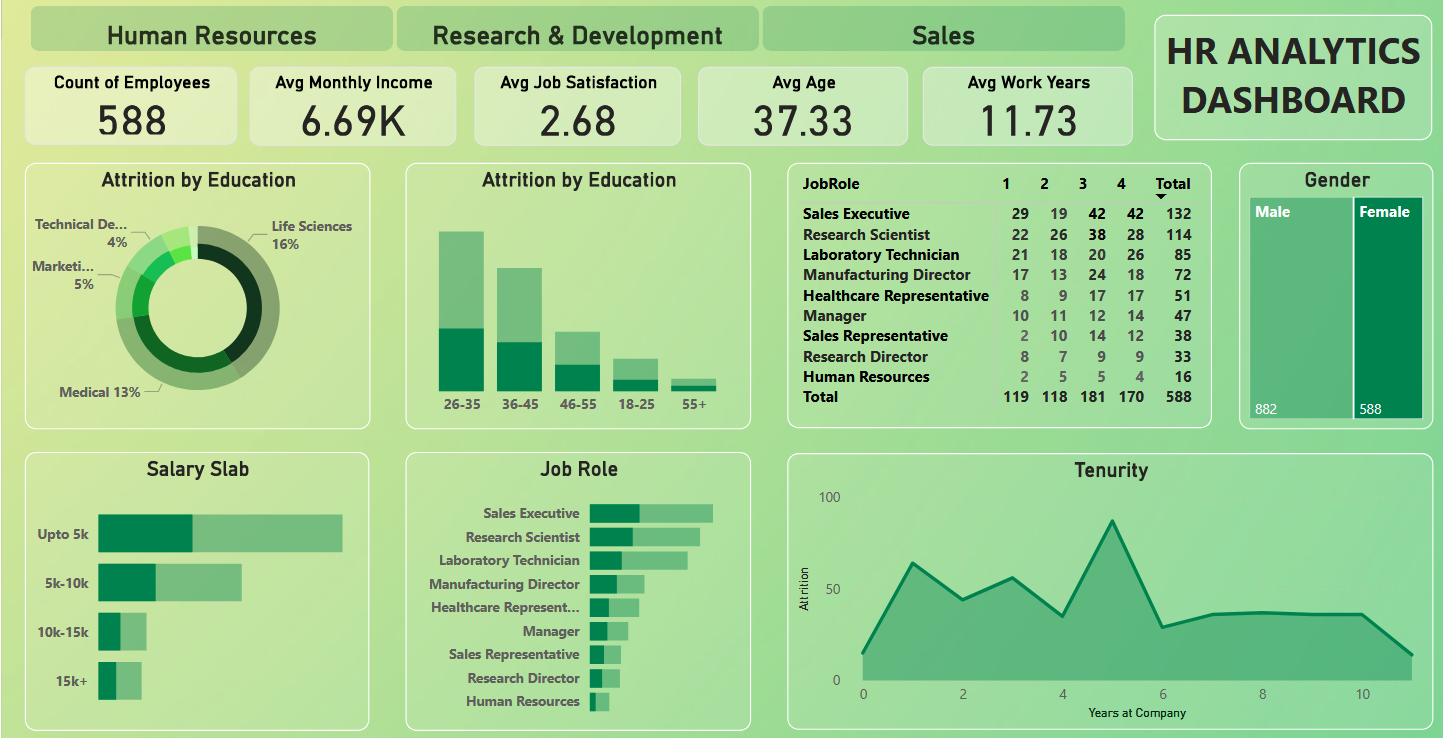

The page's visual inventory and layout, read from the dashboard file:
{"tool":"powerbi","page":{"name":"Page 1","canvas":[1280,720],"ordinal":0},"visuals":[{"type":"card","title":"Count of Employees","fields":{"Values":["CountNonNull(HR_Analytics.EmpID)"]},"box":[20.6,59,188,69],"z":0},{"type":"card","title":"Avg Monthly Income","fields":{"Values":["Avg(HR_Analytics.MonthlyIncome)"]},"box":[219.6,59,183.9,70],"z":1000},{"type":"card","title":"Avg Job Satisfaction","fields":{"Values":["Avg(HR_Analytics.JobSatisfaction)"]},"box":[418.5,59,183.9,70],"z":2000},{"type":"card","title":"Avg Age","fields":{"Values":["Avg(HR_Analytics.Age)"]},"box":[617.5,59,185.2,70],"z":3000},{"type":"card","title":"Avg Work Years","fields":{"Values":["Avg(HR_Analytics.TotalWorkingYears)"]},"box":[816.5,59,185.2,70],"z":4000},{"type":"donutChart","title":"Attrition by Education","fields":{"Category":["HR_Analytics.EducationField"],"Y":["CountNonNull(HR_Analytics.AttritionCount)"]},"box":[20.6,144.1,306,236],"z":5000},{"type":"columnChart","title":"Attrition by Education","fields":{"Y":["CountNonNull(HR_Analytics.AttritionCount)"],"Category":["HR_Analytics.AgeGroup"]},"box":[358.1,144.1,306,236],"z":6000},{"type":"pivotTable","fields":{"Rows":["HR_Analytics.JobRole"],"Columns":["HR_Analytics.JobSatisfaction"],"Values":["CountNonNull(HR_Analytics.AttritionCount)"]},"box":[695.7,143.6,376.7,235.6],"z":7000},{"type":"barChart","title":"Salary Slab","fields":{"Category":["HR_Analytics.SalarySlab"],"Y":["CountNonNull(HR_Analytics.AttritionCount)"]},"box":[20.9,400,305.5,246.6],"z":8000},{"type":"barChart","title":"Job Role","fields":{"Y":["CountNonNull(HR_Analytics.AttritionCount)"],"Category":["HR_Analytics.JobRole"]},"box":[358.3,400,305.5,246.6],"z":9000},{"type":"areaChart","title":"Tenurity","fields":{"Category":["HR_Analytics.YearsAtCompany"],"Y":["CountNonNull(HR_Analytics.AttritionCount)"]},"box":[695.7,400.7,572.2,245.6],"z":10000},{"type":"treemap","title":"Gender","fields":{"Group":["HR_Analytics.Gender"],"Values":["CountNonNull(HR_Analytics.AttritionCount)"]},"box":[1096.4,144.1,171.5,236],"z":11000},{"type":"advancedSlicerVisual","fields":{"Values":["HR_Analytics.Department"]},"box":[20.9,0,980.4,50.3],"z":12000},{"type":"textbox","box":[1020.9,13.5,246.6,110.4],"z":12001}]}

Visuals, with their boxes on the page's 1280x720 design canvas (x1, y1, x2, y2). These are canvas units, not pixel positions in the 1443x738 screenshot, which may show the page scaled, cropped or inside an application window:
"Count of Employees" card: select_region(21, 59, 209, 128)
"Avg Monthly Income" card: select_region(220, 59, 404, 129)
"Avg Job Satisfaction" card: select_region(418, 59, 602, 129)
"Avg Age" card: select_region(618, 59, 803, 129)
"Avg Work Years" card: select_region(816, 59, 1002, 129)
"Attrition by Education" donutChart: select_region(21, 144, 327, 380)
"Attrition by Education" columnChart: select_region(358, 144, 664, 380)
pivotTable - HR_Analytics.JobRole x HR_Analytics.JobSatisfaction: select_region(696, 144, 1072, 379)
"Salary Slab" barChart: select_region(21, 400, 326, 647)
"Job Role" barChart: select_region(358, 400, 664, 647)
"Tenurity" areaChart: select_region(696, 401, 1268, 646)
"Gender" treemap: select_region(1096, 144, 1268, 380)
advancedSlicerVisual - HR_Analytics.Department: select_region(21, 0, 1001, 50)
textbox: select_region(1021, 14, 1268, 124)
